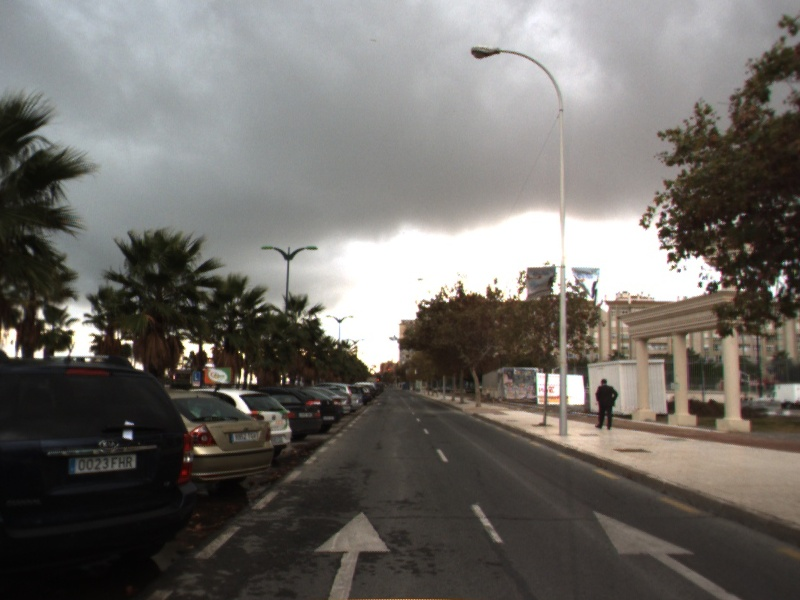STRAIGHT: (590, 508, 750, 600), (312, 508, 393, 600)
